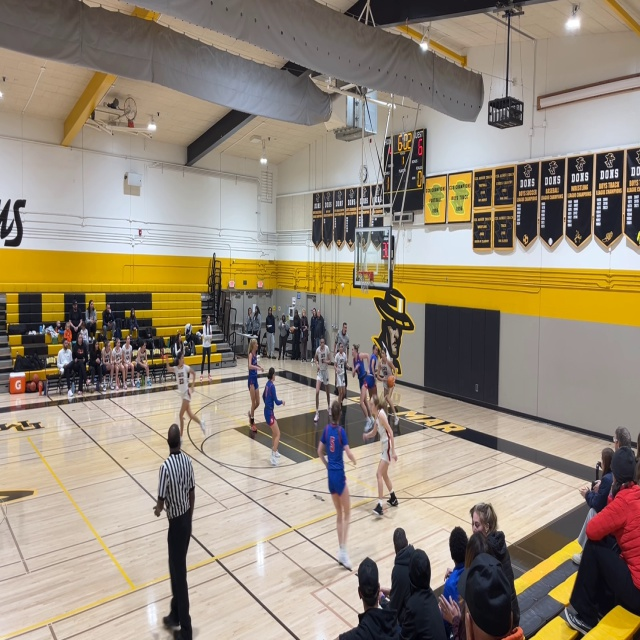Basketball: (387, 375, 395, 386)
